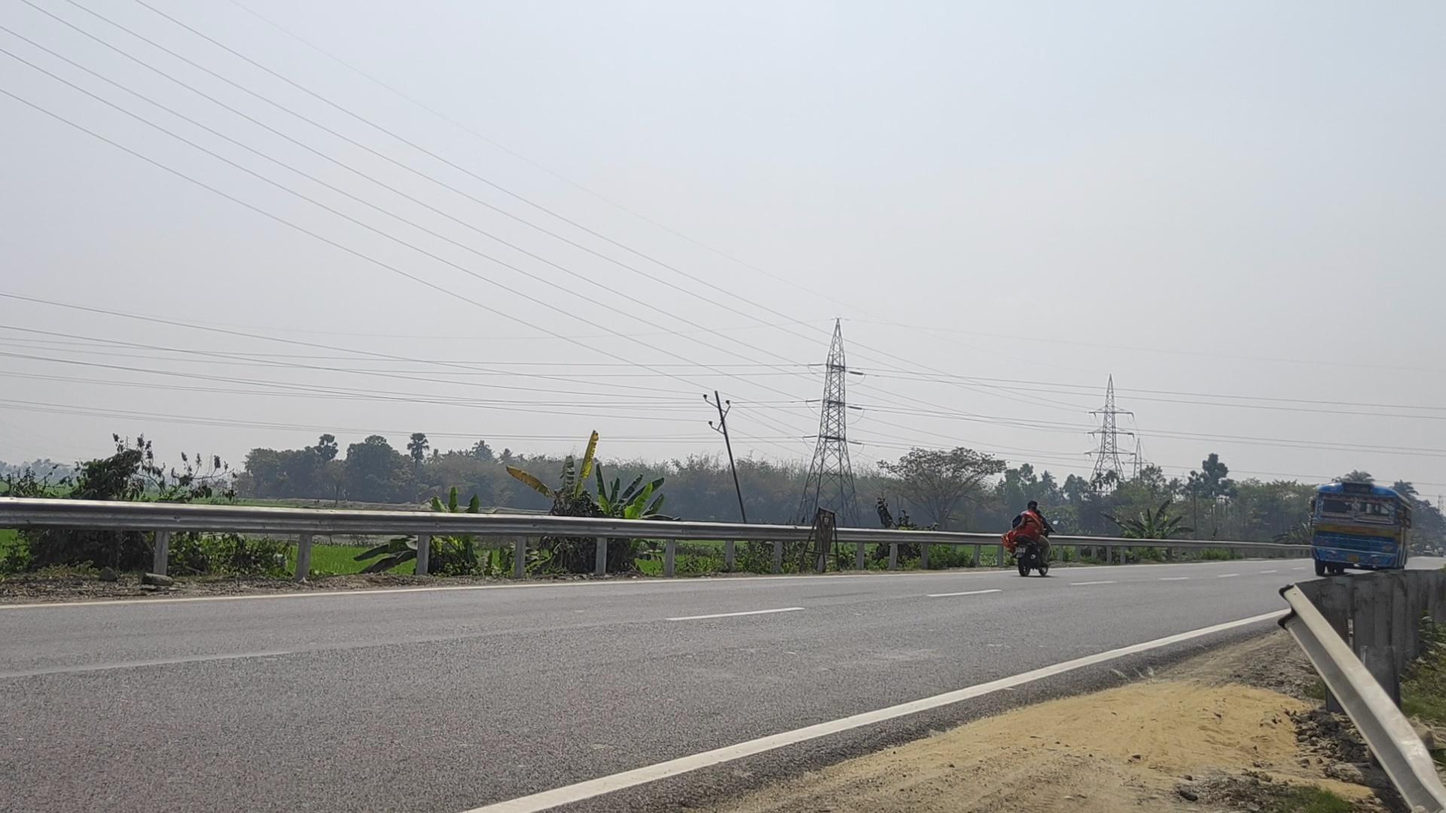Bus: (1310, 480, 1412, 578)
bike: (1003, 501, 1059, 578)
